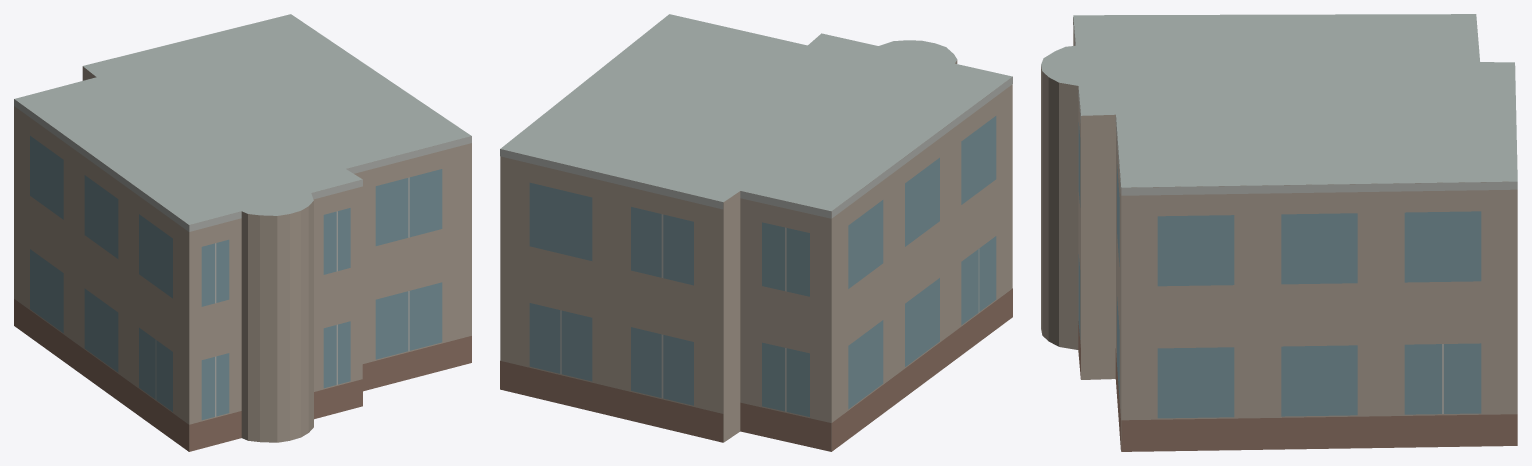
Rendered from survey-upis-32681741.glb.
3 renders of one model, left to right at view 1: azimuth 30°, elevation 25°; view 2: azimuth 150°, elevation 25°; view 3: azimuth 270°, elevation 25°, orthographic. The views are drawn at different scales.
Visible parts, largest first — view 1: survey-upis-32681741.tmp; view 2: survey-upis-32681741.tmp; view 3: survey-upis-32681741.tmp.
Boxes of the visible parts, <box> form: survey-upis-32681741.tmp: <box>14,14,471,451</box>; survey-upis-32681741.tmp: <box>500,14,1012,451</box>; survey-upis-32681741.tmp: <box>1041,14,1517,451</box>.
Bounding box in the file's own units: 11.14 × 7.9 × 12.92.
